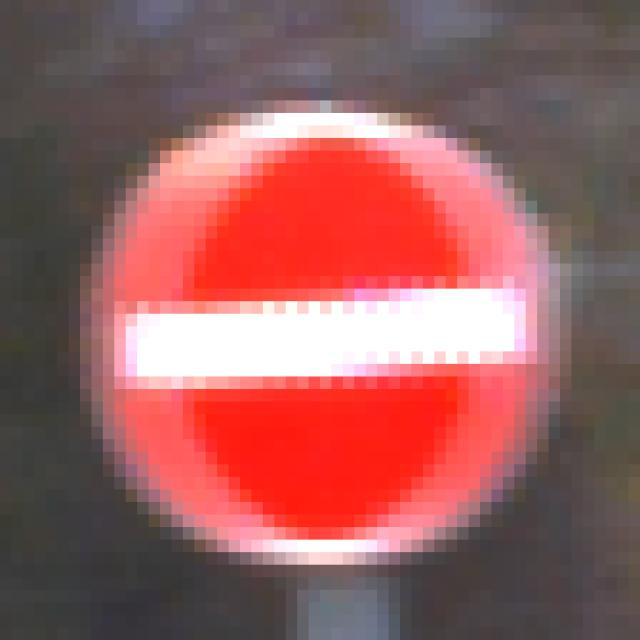No Entry: (69, 64, 584, 578)
